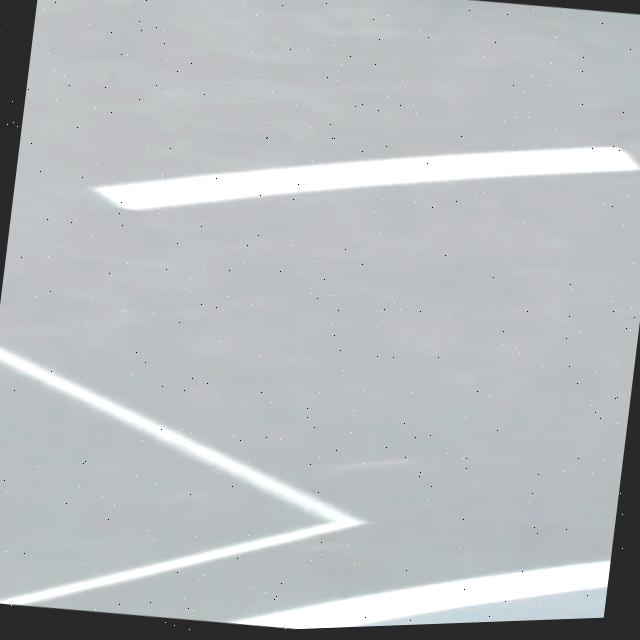center: (94, 147, 639, 209)
left: (224, 561, 610, 629)
